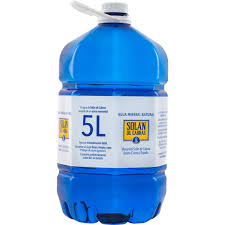solan de cabras: (47, 3, 188, 224)
